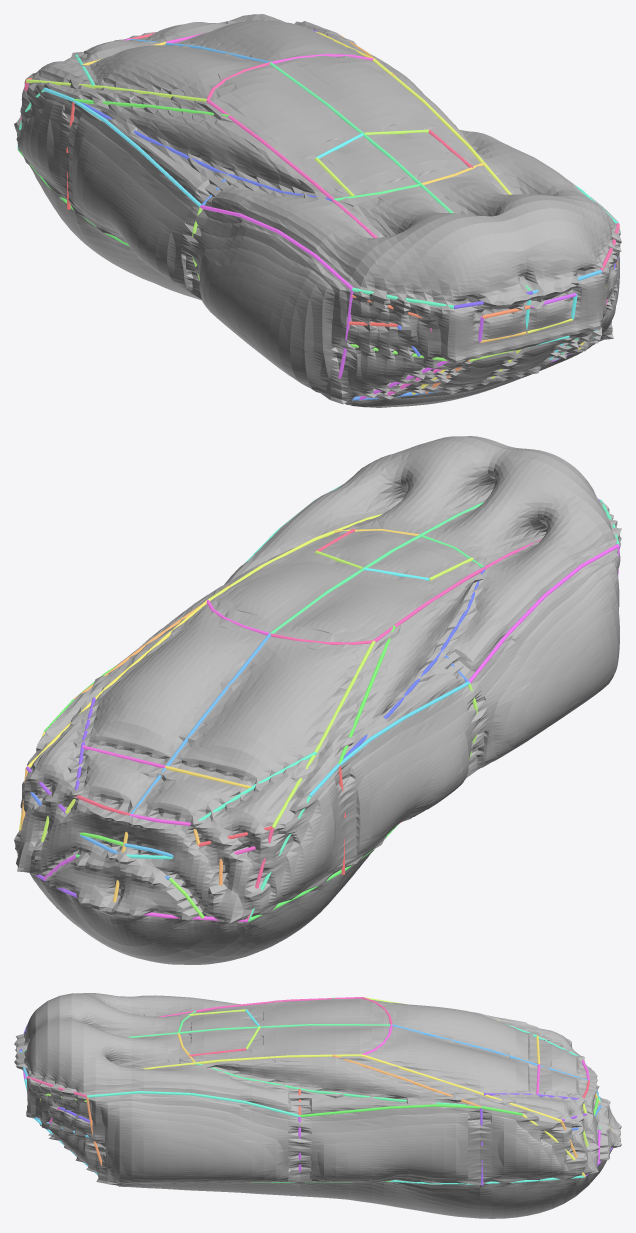
Rendered from ils_car3.gltf.
The picture shows the model from 3 angles, top to bottom: view 1: azimuth 30°, elevation 25°; view 2: azimuth 150°, elevation 25°; view 3: azimuth 270°, elevation 25°; orthographic projection. The views are drawn at different scales.
Bounding box in the file's own units: 0.4225 × 0.3106 × 0.9352.
